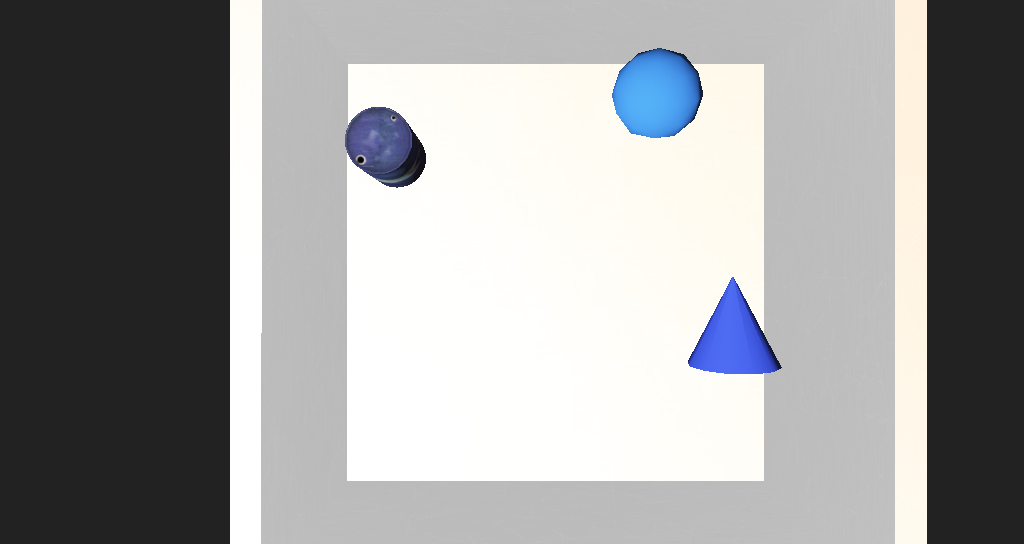cone: (357, 186, 411, 224)
cylinder: (596, 270, 670, 322)
sphere: (549, 160, 610, 203)
